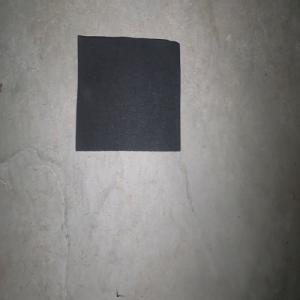PaintChip: (75, 34, 180, 151)
